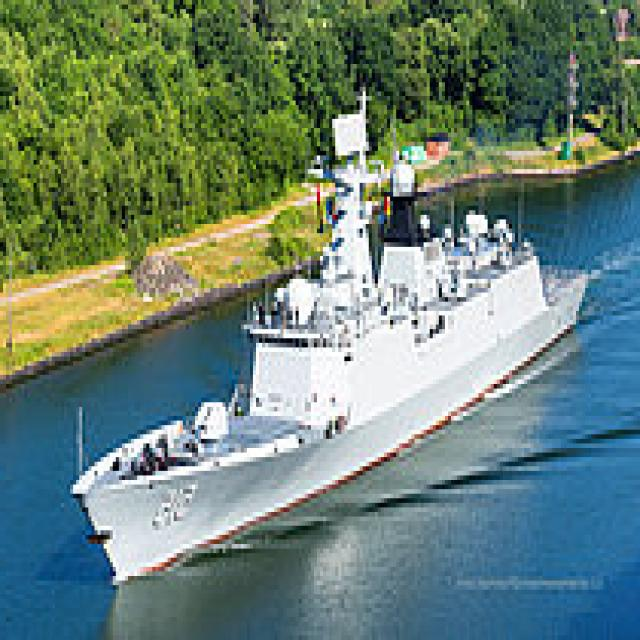Warship: (70, 78, 594, 580)
